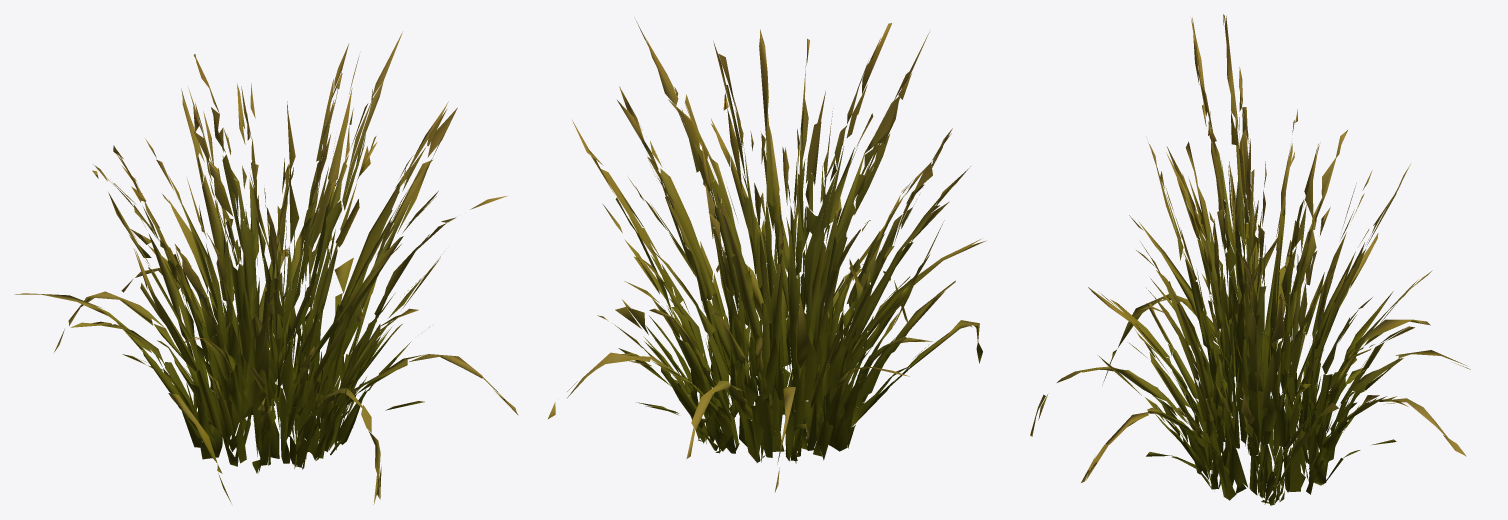
The model's file is desert_grass_fine_single.glb.
3 views of the same model, side by side, from view 1: azimuth 30°, elevation 25°; view 2: azimuth 150°, elevation 25°; view 3: azimuth 270°, elevation 25° (orthographic). The views are drawn at different scales.
Visible parts, largest first — view 1: desert_grass_fine_single; view 2: desert_grass_fine_single; view 3: desert_grass_fine_single.
Part boxes in pixels (<box>): desert_grass_fine_single: <box>14,32,518,504</box>; desert_grass_fine_single: <box>548,17,986,491</box>; desert_grass_fine_single: <box>1030,14,1470,505</box>.
Bounding box in the file's own units: 0.9603 × 1 × 1.01.
Materials: 1 (1 with a texture image).
